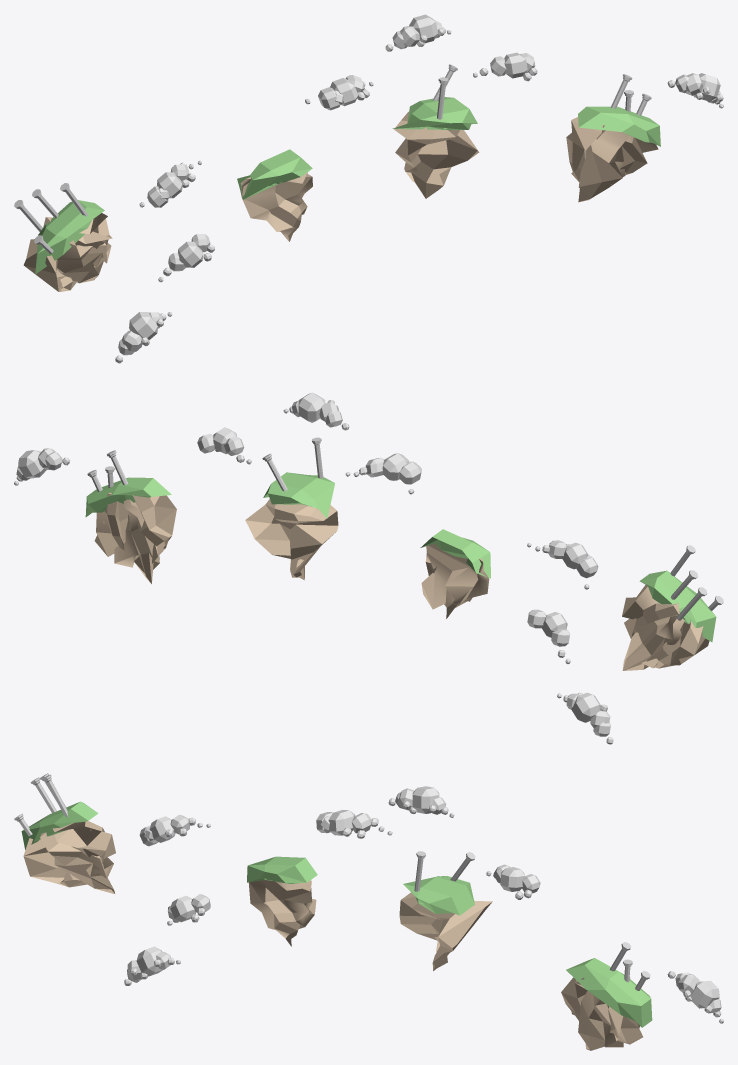
Rendered from skyLevel01_MeshTest01.fbx.
The picture shows the model from 3 angles, top to bottom: view 1: azimuth 30°, elevation 25°; view 2: azimuth 150°, elevation 25°; view 3: azimuth 330°, elevation 25°; orthographic projection.
Visible parts, largest first — view 1: islandPiece04, islandPiece03, islandPiece01, islandPiece02, grassTop01, grassTop04, grassTop03, grassTop02, cloud03, cloud01, cloud05, cloud04 (+3 smaller); view 2: islandPiece04, islandPiece01, islandPiece03, islandPiece02, grassTop01, grassTop03, grassTop04, grassTop02, cloud04, cloud03, cloud05, cloud01 (+3 smaller); view 3: islandPiece01, islandPiece04, islandPiece02, islandPiece03, grassTop04, grassTop03, grassTop02, cloud04, cloud07, grassTop01, cloud05, cloud03 (+3 smaller).
Part boxes in pixels (<box>): islandPiece04: <box>566,117,658,202</box>; islandPiece03: <box>394,111,479,198</box>; islandPiece01: <box>23,213,112,291</box>; islandPiece02: <box>240,172,312,241</box>; grassTop01: <box>35,200,104,274</box>; grassTop04: <box>578,106,660,146</box>; grassTop03: <box>392,97,477,129</box>; grassTop02: <box>237,149,312,199</box>; cloud03: <box>115,312,172,363</box>; cloud01: <box>139,160,201,207</box>; cloud05: <box>385,14,451,51</box>; cloud04: <box>305,75,373,110</box>; islandPiece04: <box>94,492,176,583</box>; islandPiece01: <box>622,585,709,670</box>; islandPiece03: <box>245,499,338,580</box>; islandPiece02: <box>421,543,489,618</box>; grassTop01: <box>639,570,716,641</box>; grassTop03: <box>263,472,334,518</box>; grassTop04: <box>85,477,171,517</box>; grassTop02: <box>420,529,490,578</box>; cloud04: <box>345,453,421,494</box>; cloud03: <box>557,692,613,744</box>; cloud05: <box>283,392,349,430</box>; cloud01: <box>527,540,598,589</box>; islandPiece01: <box>23,821,115,893</box>; islandPiece04: <box>561,976,642,1050</box>; islandPiece02: <box>248,880,316,946</box>; islandPiece03: <box>399,892,492,970</box>; grassTop04: <box>566,958,652,1027</box>; grassTop03: <box>403,876,474,915</box>; grassTop02: <box>247,856,317,883</box>; cloud04: <box>316,810,392,838</box>; cloud07: <box>667,971,723,1023</box>; grassTop01: <box>21,801,98,849</box>; cloud05: <box>388,786,454,817</box>; cloud03: <box>124,946,180,985</box>.
Size of the model in its own units: 87.51 by 32.81 by 9.73.
